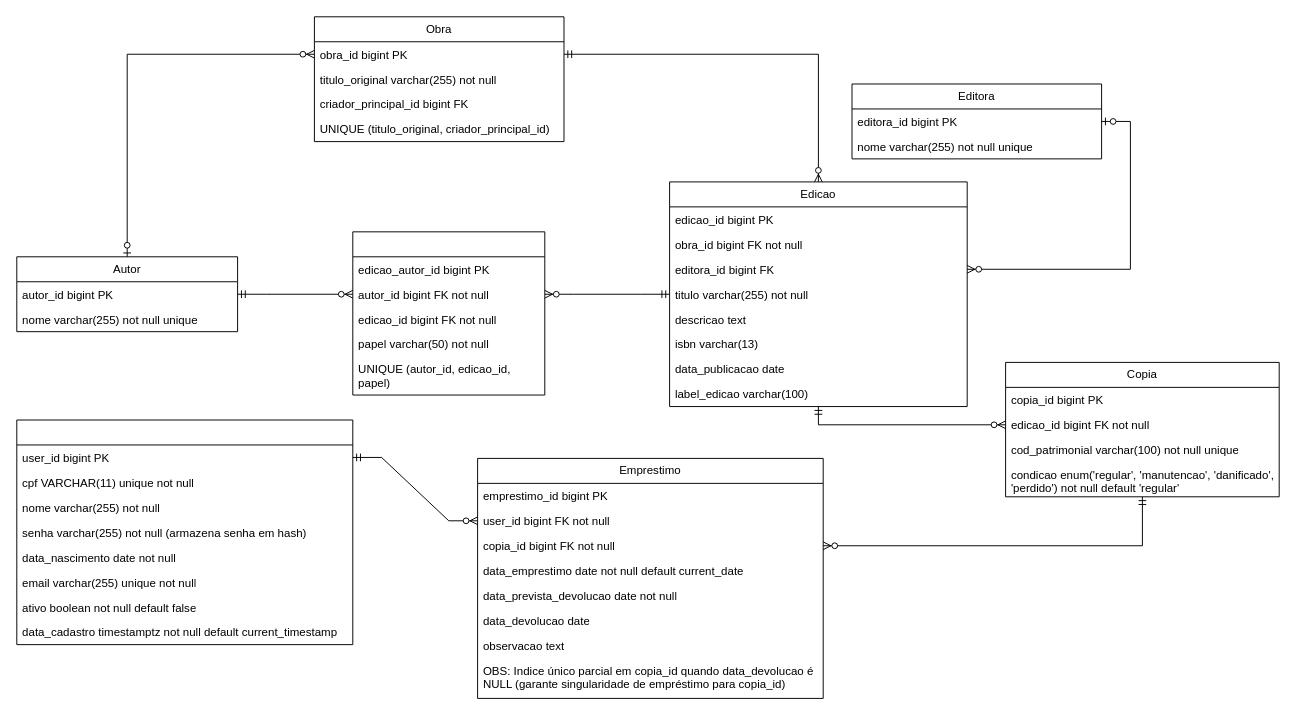
Some shapes in this 1296 by 718 pixel diagram are drawn without their labels. Here are the shapes that lost their labels. From the top down, the box of each, then its label:
(352, 231, 545, 395): EdicoesAutores
(16, 419, 353, 645): Usuario
